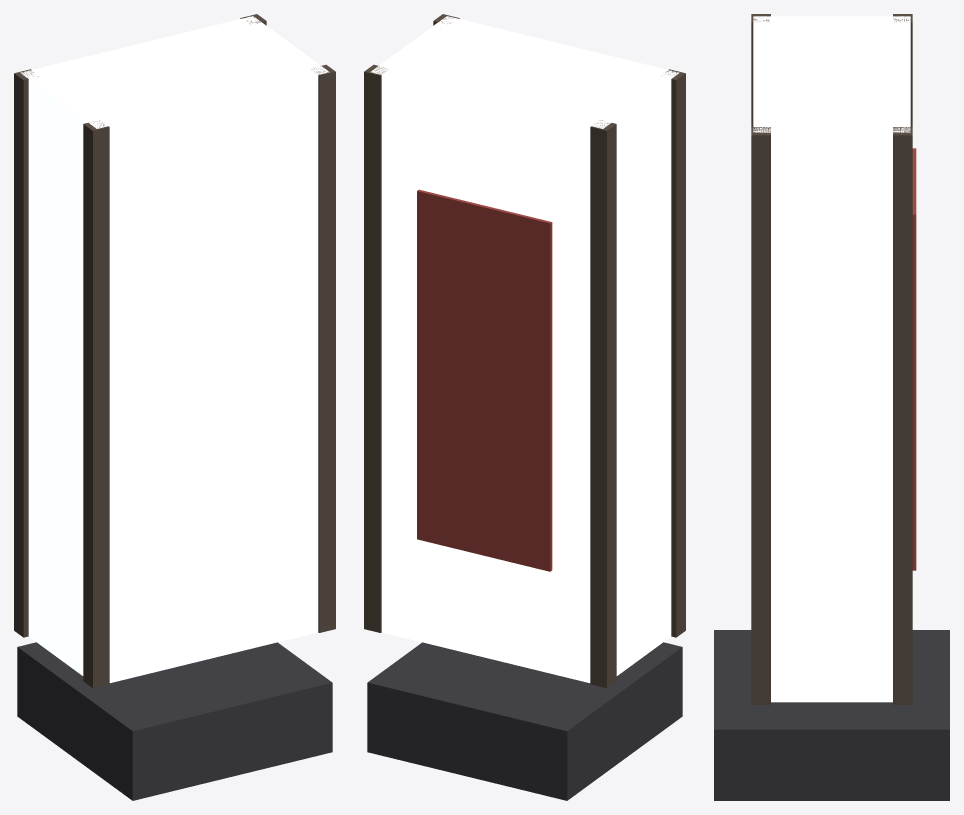
Rendered from prop_andon_kanban.glb.
3 views of the same model, side by side, from view 1: azimuth 30°, elevation 25°; view 2: azimuth 150°, elevation 25°; view 3: azimuth 270°, elevation 25° (orthographic). The views are drawn at different scales.
Parts seen in each view (by area): view 1: andon_kanban; view 2: andon_kanban; view 3: andon_kanban.
Boxes of the visible parts, box(x1,y1,x2,y2) form: andon_kanban: box(14, 14, 335, 800); andon_kanban: box(364, 14, 685, 800); andon_kanban: box(714, 14, 949, 800).
Size of the model in its own units: 0.73 by 1.9 by 0.6.
